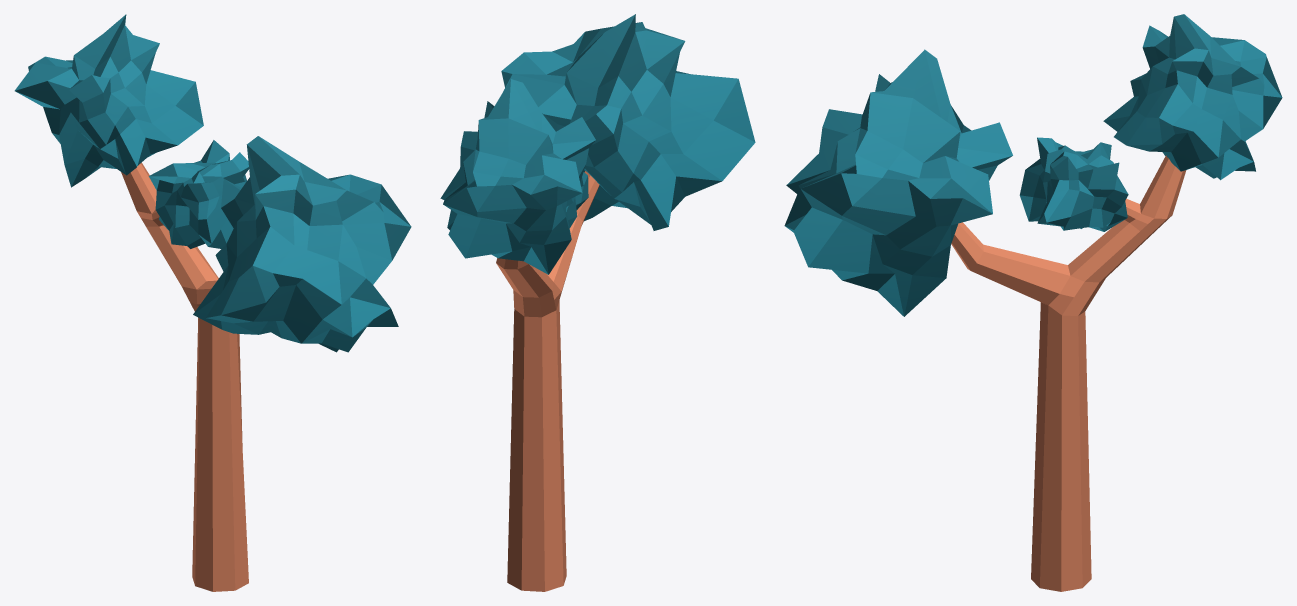
File: Tree_03_gradient_blue_pal.fbx
The picture shows the model from 3 angles, left to right: view 1: azimuth 30°, elevation 25°; view 2: azimuth 150°, elevation 25°; view 3: azimuth 270°, elevation 25°; orthographic projection. The views are drawn at different scales.
Parts seen in each view (by area): view 1: Tree_03_gradient_blue_pal; view 2: Tree_03_gradient_blue_pal; view 3: Tree_03_gradient_blue_pal.
Part boxes in pixels (x1,y1,x2,y2): Tree_03_gradient_blue_pal: [14, 14, 411, 591]; Tree_03_gradient_blue_pal: [440, 14, 755, 591]; Tree_03_gradient_blue_pal: [784, 14, 1282, 591].
Size of the model in its own units: 77.81 by 178 by 146.
